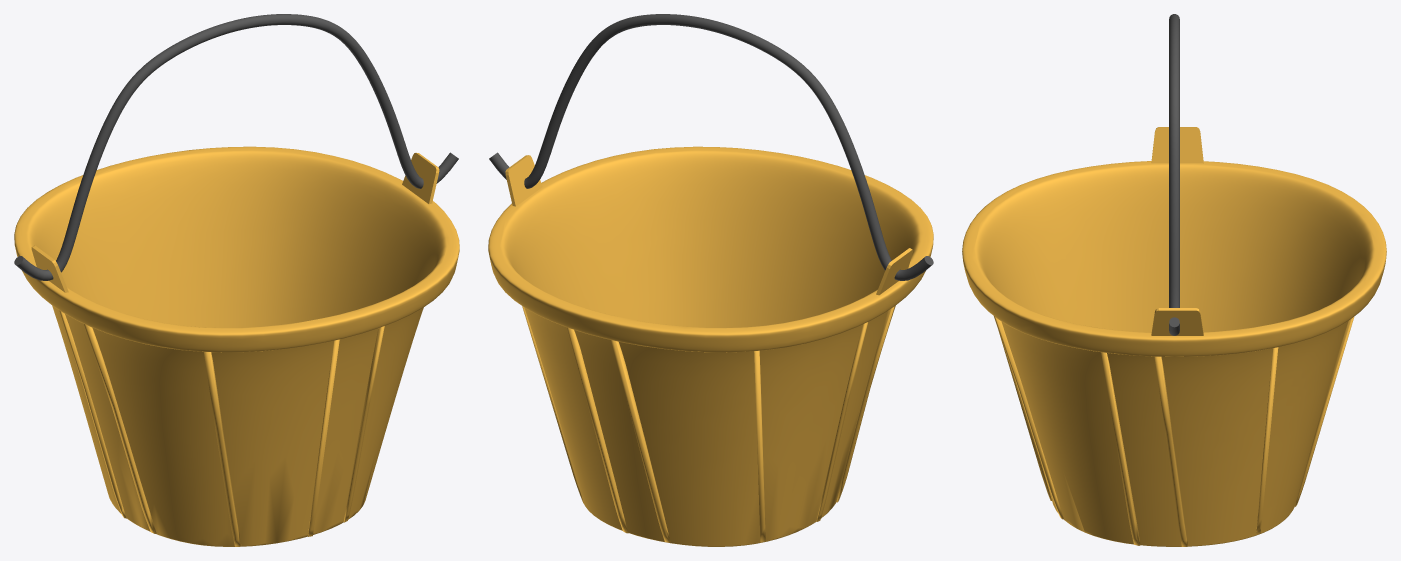
Rendered from construction_bucket.glb.
3 renders of one model, left to right at view 1: azimuth 30°, elevation 25°; view 2: azimuth 150°, elevation 25°; view 3: azimuth 270°, elevation 25°, orthographic. The views are drawn at different scales.
Parts seen in each view (by area): view 1: Construction Bucket_Contraction bucket_0, Construction Bucket_Grey_0; view 2: Construction Bucket_Contraction bucket_0, Construction Bucket_Grey_0; view 3: Construction Bucket_Contraction bucket_0, Construction Bucket_Grey_0.
Boxes of the visible parts, x1,y1,x2,y2 form: Construction Bucket_Contraction bucket_0: (14,146,459,546); Construction Bucket_Grey_0: (14,14,458,280); Construction Bucket_Contraction bucket_0: (488,146,933,546); Construction Bucket_Grey_0: (489,14,933,280); Construction Bucket_Contraction bucket_0: (962,127,1386,546); Construction Bucket_Grey_0: (1169,14,1179,335).
Bounding box in the file's own units: 3.73 × 3.83 × 3.18.
